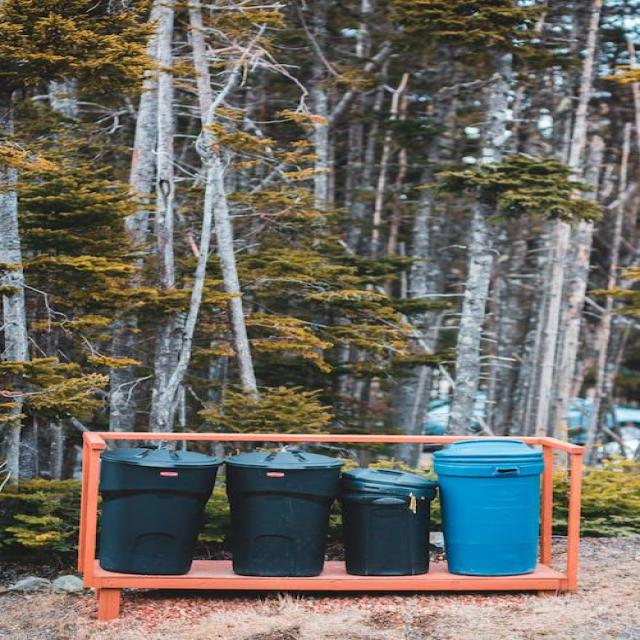plastic: (100, 444, 215, 580)
